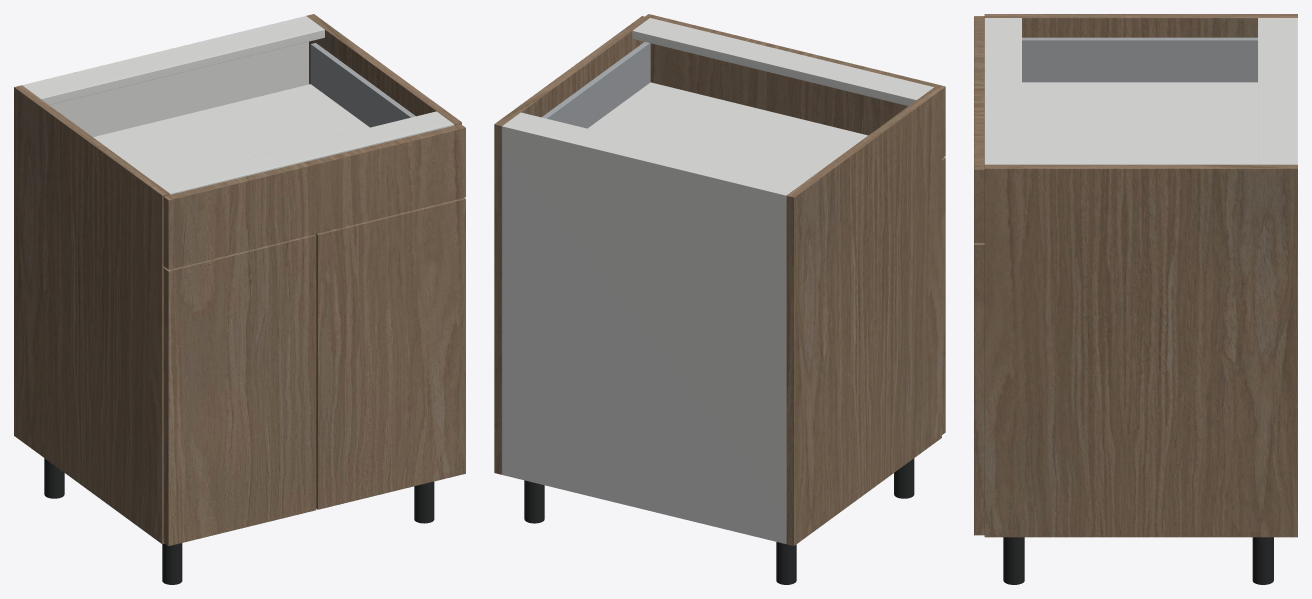
The model's file is oppein-pb-mnw-b27.glb.
3 renders of one model, left to right at view 1: azimuth 30°, elevation 25°; view 2: azimuth 150°, elevation 25°; view 3: azimuth 270°, elevation 25°, orthographic. The views are drawn at different scales.
Parts seen in each view (by area): view 1: Cabinet side, Door, Door.001, Drawer front, Drawer floor, Cabinet back, Top support rail, Top support rail.001, Drawer side.001, Cabinet side.001, Adjustable foot.001, Adjustable foot.003 (+1 smaller); view 2: Cabinet back, Cabinet side, Drawer floor, Drawer front, Top support rail.001, Cabinet side.001, Top support rail, Drawer side.001, Door, Adjustable foot, Adjustable foot.002, Adjustable foot.001; view 3: Cabinet side.001, Drawer floor, Drawer side, Cabinet side, Top support rail.001, Top support rail, Door.001, Drawer front, Adjustable foot.003, Adjustable foot.002, Cabinet back.
Part boxes in pixels (box(x1,y1,x2,y2)): Cabinet side: box(14, 85, 169, 544); Door: box(163, 234, 316, 546); Door.001: box(315, 198, 465, 509); Drawer front: box(163, 124, 465, 269); Drawer floor: box(93, 84, 369, 180); Cabinet back: box(22, 16, 308, 136); Top support rail: box(23, 18, 324, 104); Top support rail.001: box(153, 111, 454, 194); Drawer side.001: box(310, 43, 415, 127); Cabinet side.001: box(306, 14, 461, 125); Adjustable foot.001: box(162, 543, 182, 584); Adjustable foot.003: box(414, 481, 434, 523); Cabinet back: box(502, 124, 788, 543); Cabinet side: box(786, 87, 941, 545); Drawer floor: box(588, 82, 867, 181); Drawer front: box(645, 14, 945, 158); Top support rail.001: box(632, 18, 933, 105); Cabinet side.001: box(494, 16, 649, 474); Top support rail: box(505, 112, 804, 193); Drawer side.001: box(541, 42, 650, 128); Door: box(942, 157, 945, 434); Adjustable foot: box(776, 542, 796, 584); Adjustable foot.002: box(524, 480, 544, 523); Adjustable foot.001: box(894, 458, 914, 498); Cabinet side.001: box(984, 164, 1297, 537); Drawer floor: box(1022, 82, 1257, 164); Drawer side: box(1022, 37, 1257, 82); Cabinet side: box(984, 14, 1297, 37); Top support rail.001: box(984, 18, 1021, 164); Top support rail: box(1258, 18, 1291, 164); Door.001: box(974, 243, 984, 535); Drawer front: box(974, 16, 984, 242); Adjustable foot.003: box(1003, 537, 1024, 584); Adjustable foot.002: box(1252, 537, 1273, 584); Cabinet back: box(1292, 18, 1297, 164).
Size of the model in its own units: 0.6858 by 0.8763 by 0.6064.
Materials: 4 (1 with a texture image).
